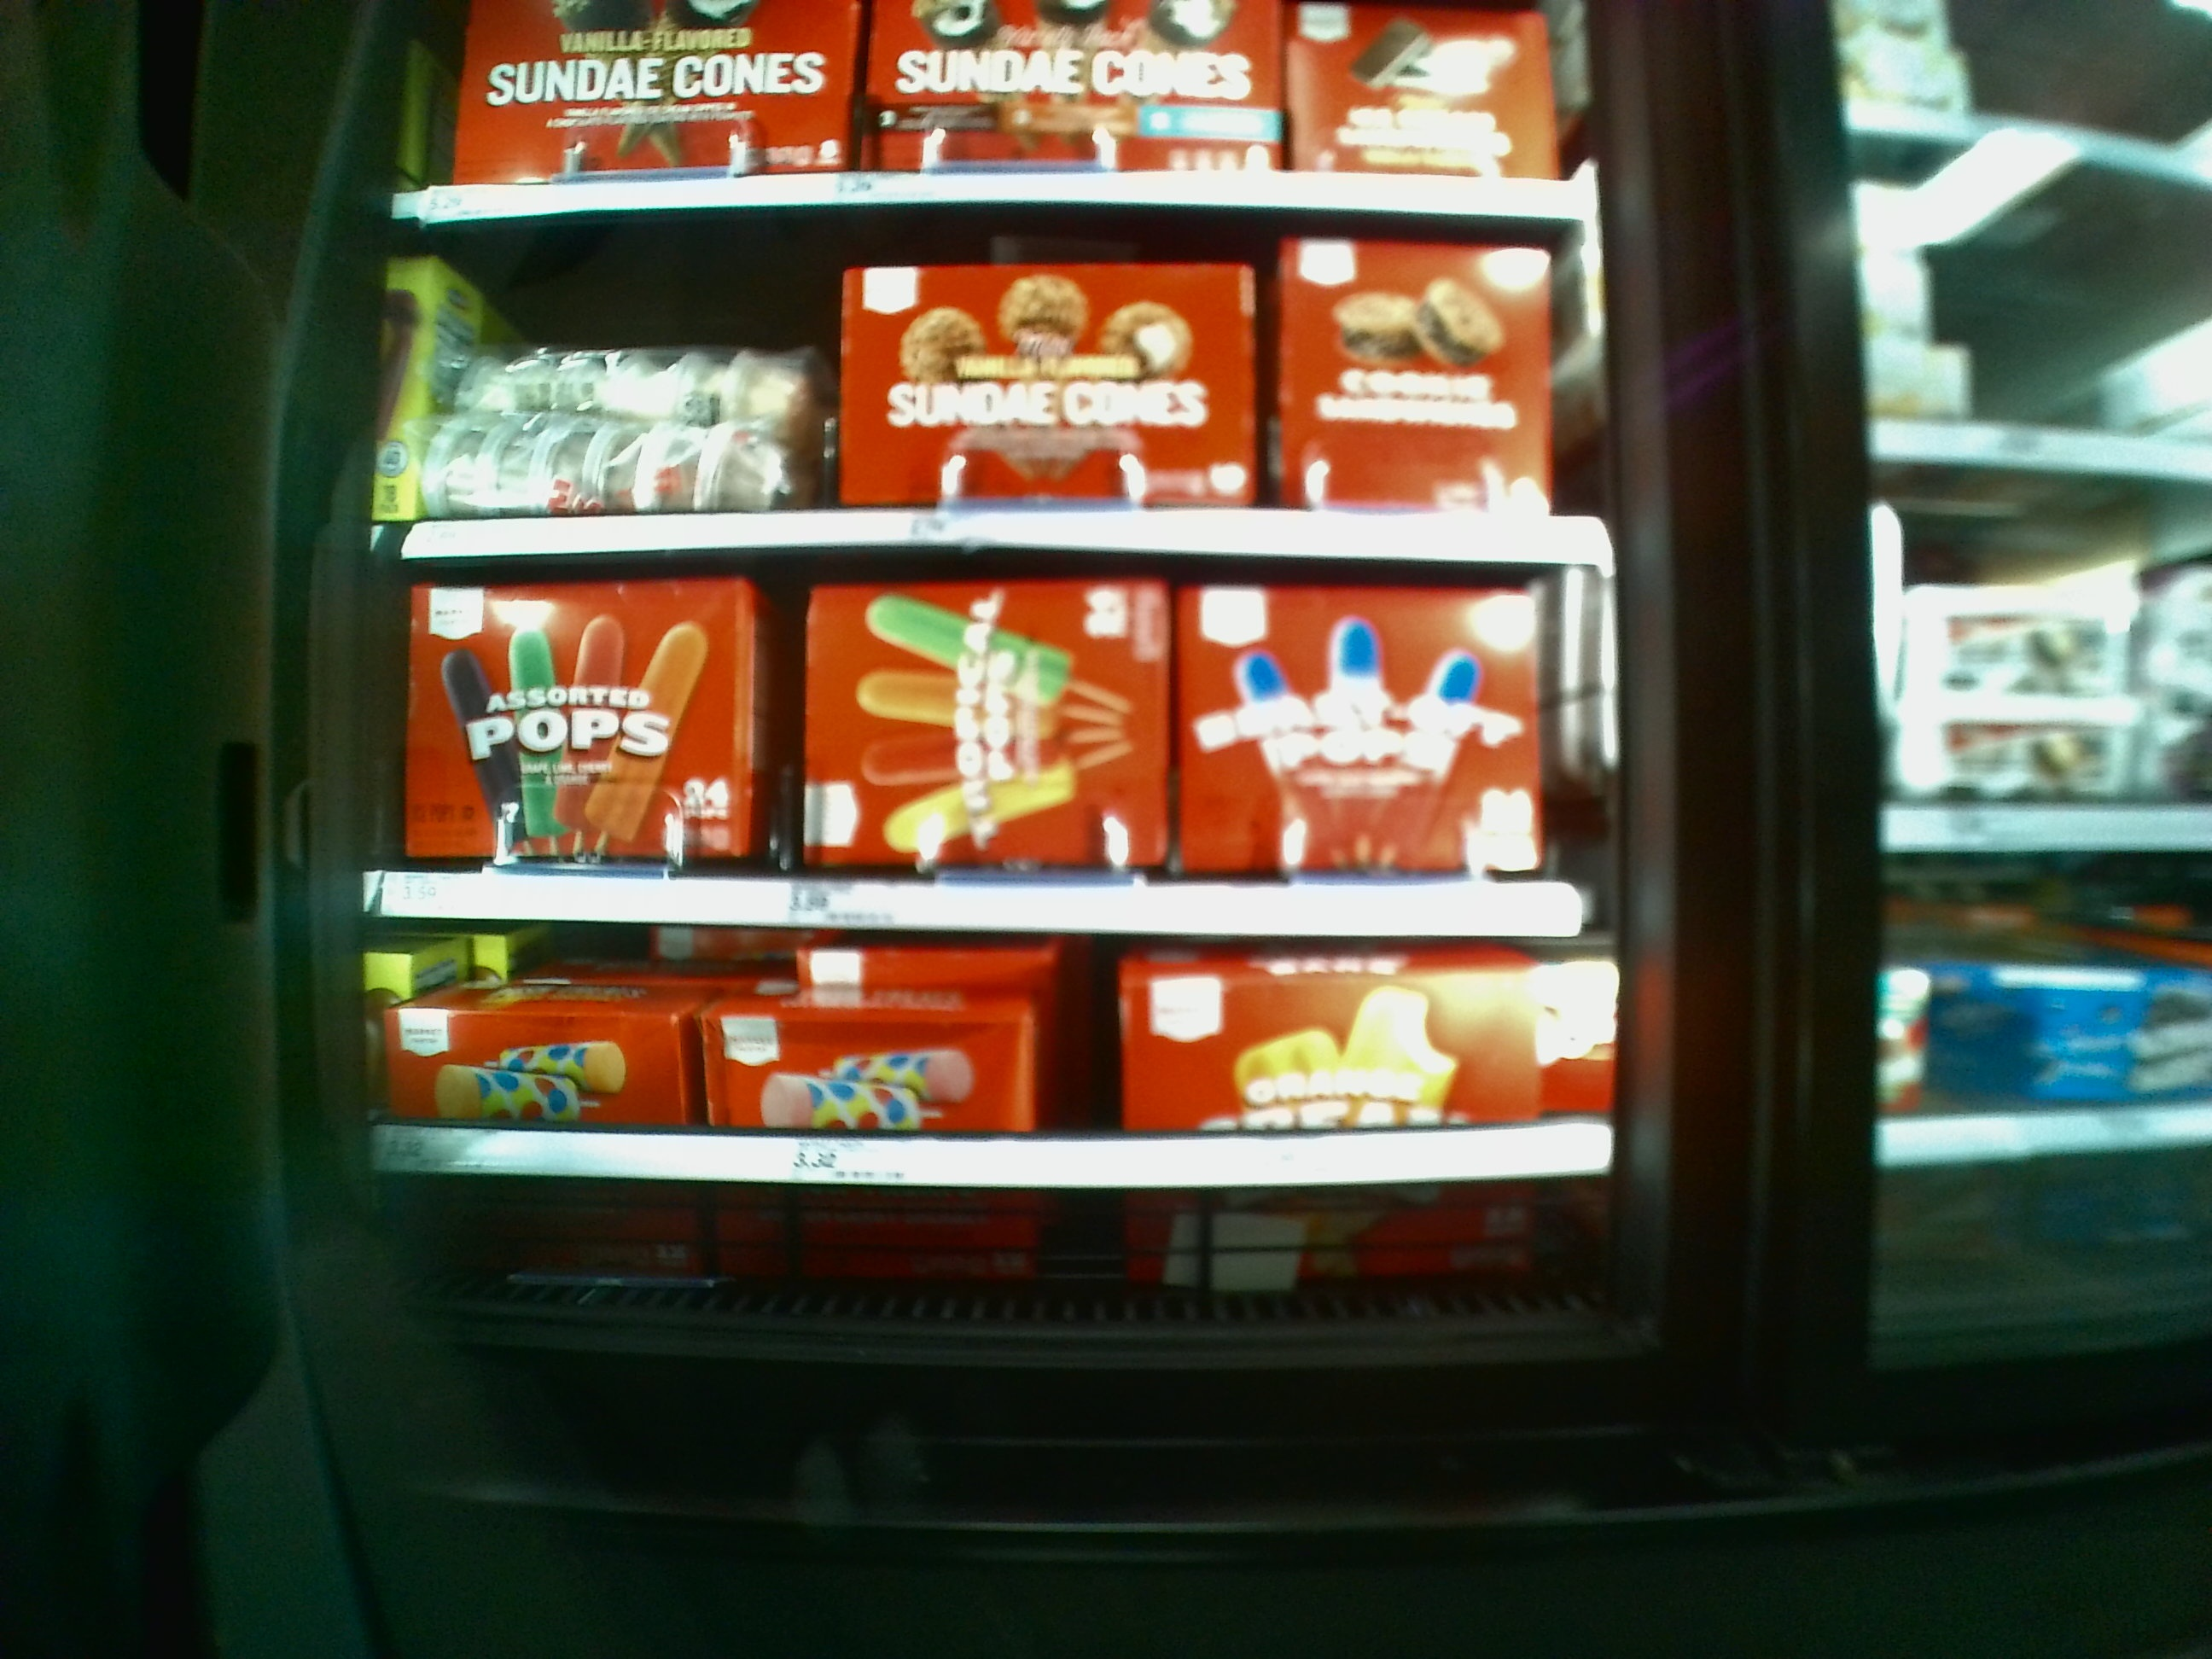shelf: (336, 951, 1629, 1347), (355, 582, 1609, 946), (381, 211, 1620, 579)
